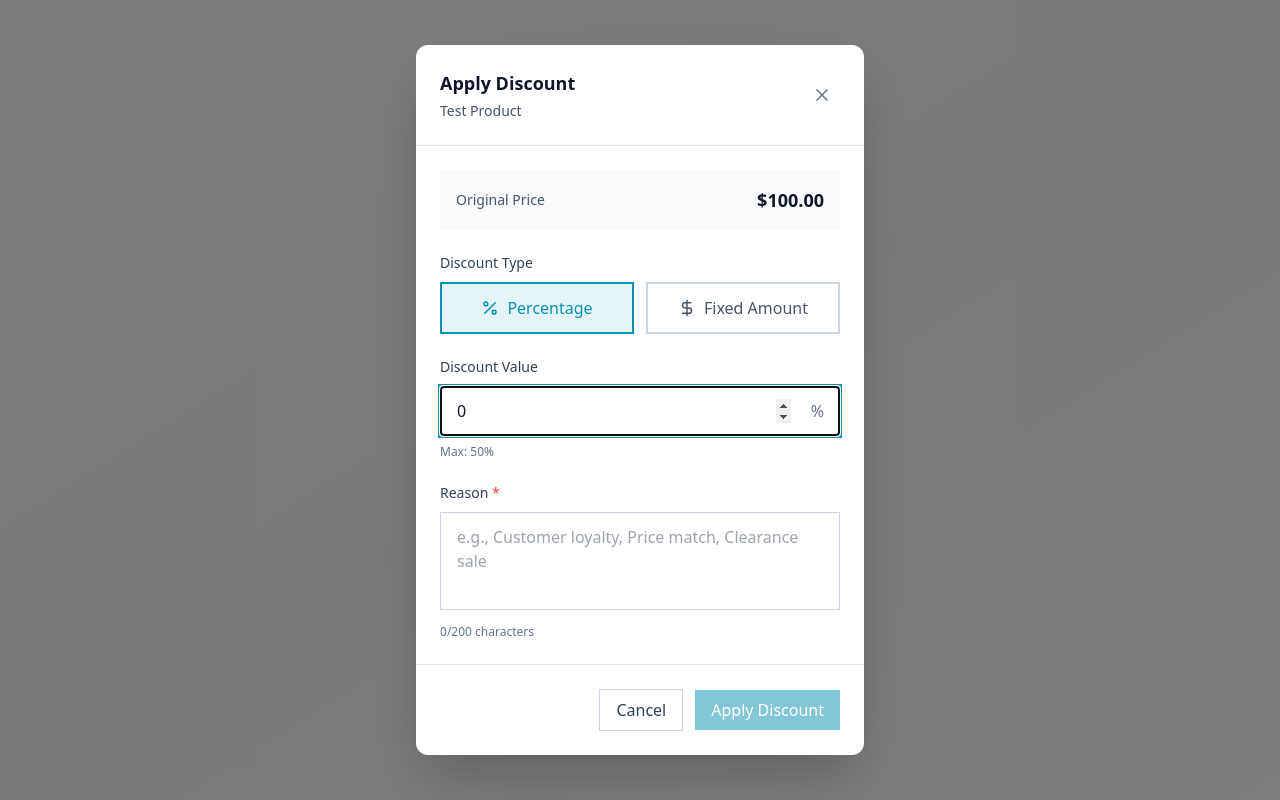
Test: DiscountModal › shows character count for reason
This screenshot has width=1280, height=800.
Type "Test" into the text box with placeholder "e.g., Customer loyalty, Price match, Clearance sale" at (640, 561), box [440,512,840,610]
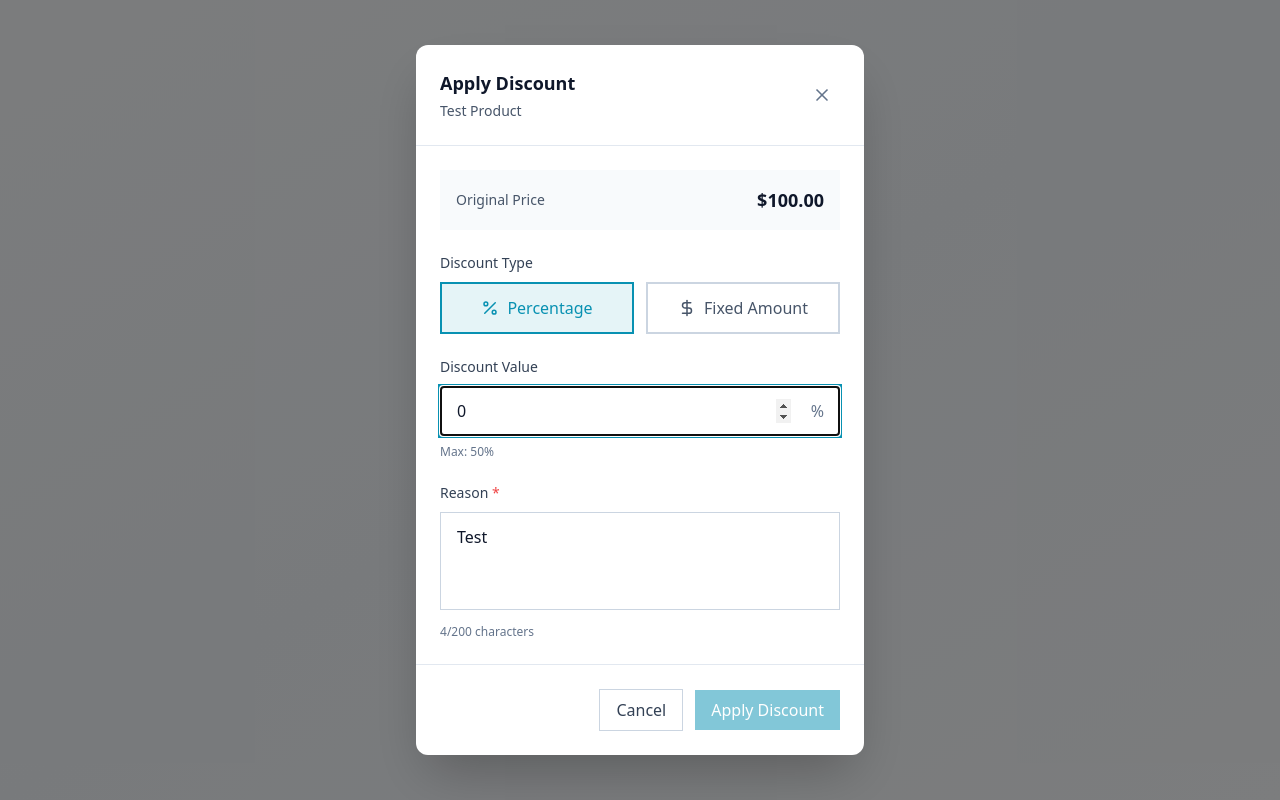
Result: the text "4/200 characters" is shown at [440,623,534,640]
Replace the text in the text box with placeholder "e.g., Customer loyalty, Price match, Clearance sale" with "A longer reason text" at (640, 561), box [440,512,840,610]
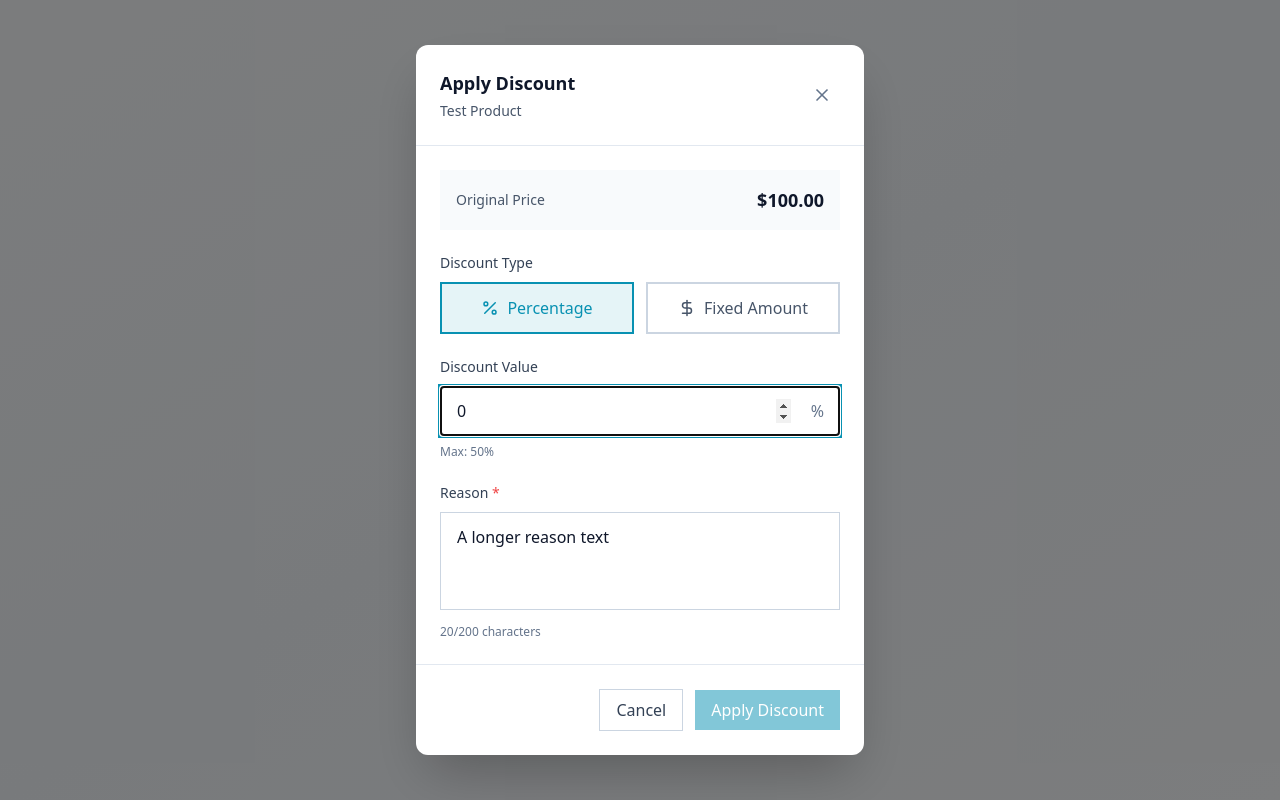
Result: the text "20/200 characters" is shown at [440,623,541,640]
